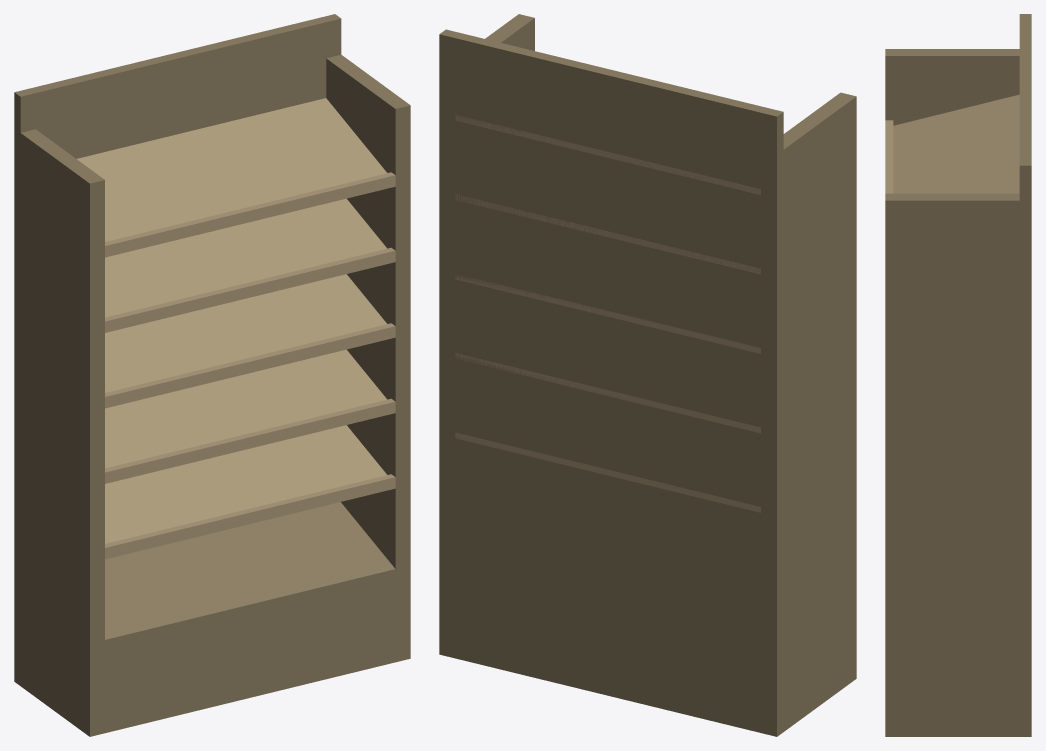
File: BakerStall_Shelf.fbx
3 views of the same model, side by side, from view 1: azimuth 30°, elevation 25°; view 2: azimuth 150°, elevation 25°; view 3: azimuth 270°, elevation 25° (orthographic). The views are drawn at different scales.
Parts seen in each view (by area): view 1: BakerStall_Stand; view 2: BakerStall_Stand; view 3: BakerStall_Stand.
Boxes of the visible parts, left/top/right/bottom form: BakerStall_Stand: left=14, top=14, right=410, bottom=736; BakerStall_Stand: left=439, top=14, right=856, bottom=736; BakerStall_Stand: left=885, top=14, right=1031, bottom=736.
Size of the model in its own units: 17.74 by 31.14 by 7.24.
